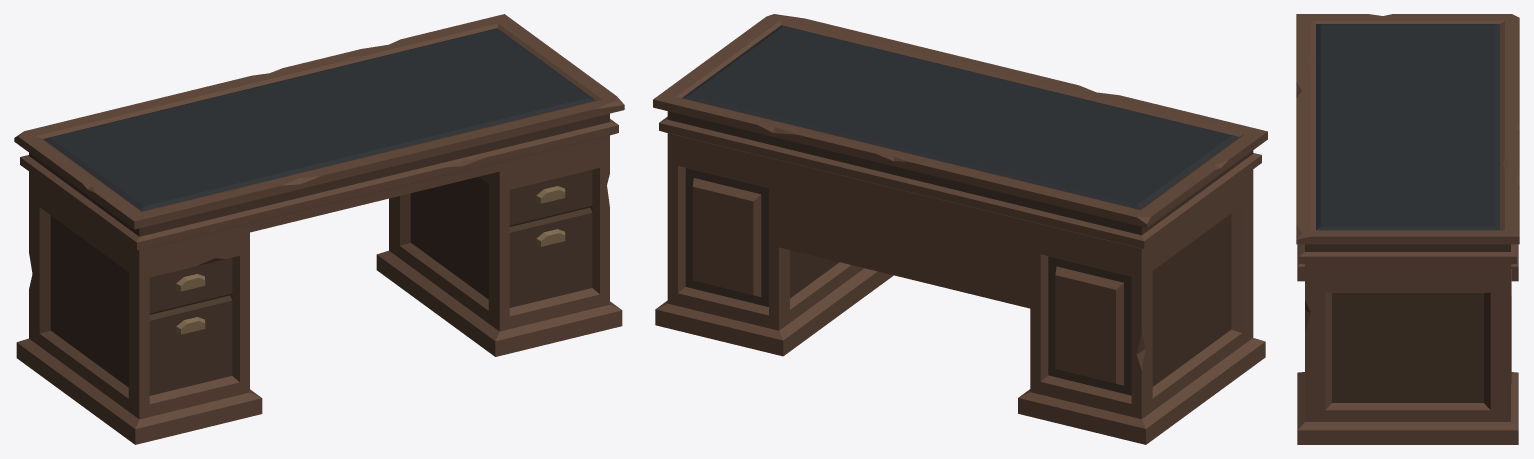
Rendered from SM_Prop_Office_Desk_01.obj.
3 renders of one model, left to right at view 1: azimuth 30°, elevation 25°; view 2: azimuth 150°, elevation 25°; view 3: azimuth 270°, elevation 25°, orthographic. The views are drawn at different scales.
Visible parts, largest first — view 1: SM_Prop_Office_Desk_01_0; view 2: SM_Prop_Office_Desk_01_0; view 3: SM_Prop_Office_Desk_01_0.
Part boxes in pixels (bbox=[...]): SM_Prop_Office_Desk_01_0: bbox=[14, 14, 624, 444]; SM_Prop_Office_Desk_01_0: bbox=[653, 14, 1267, 444]; SM_Prop_Office_Desk_01_0: bbox=[1296, 14, 1519, 444].
Size of the model in its own units: 2.18 by 0.9529 by 0.9246.
Materials: 1 (1 with a texture image).
